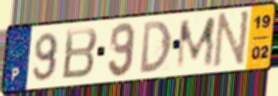9: (108, 21, 137, 79), (33, 30, 61, 83)
B: (60, 26, 100, 82)
D: (139, 19, 174, 76)
M: (174, 14, 218, 72)
N: (211, 8, 252, 69)
